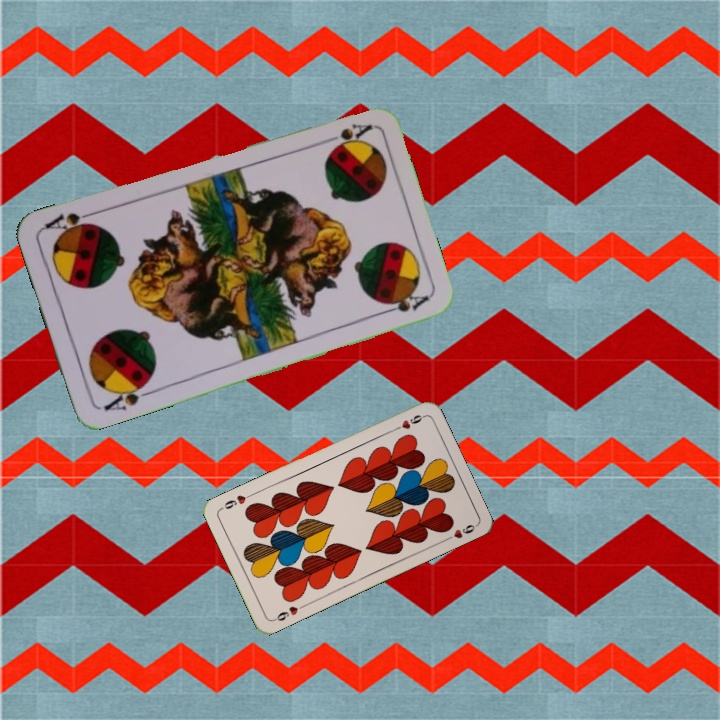H9: (388, 410, 427, 434), (269, 601, 307, 624)
SA: (100, 377, 155, 414), (316, 119, 375, 150)
